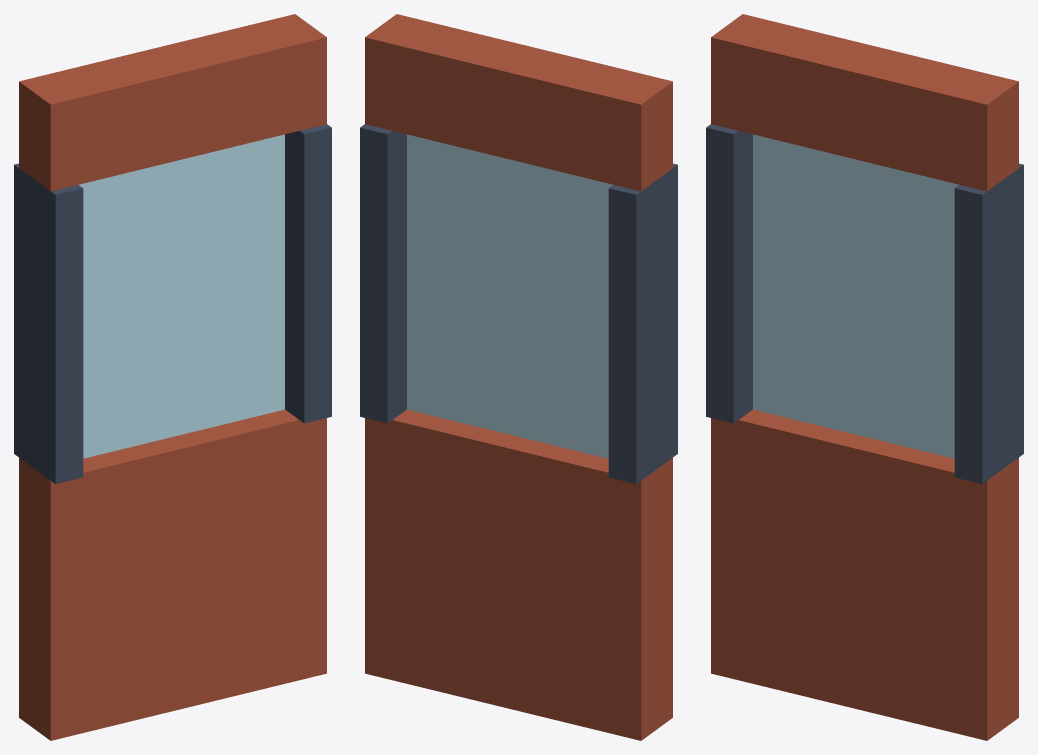
Rendered from raum_wand_fenster.glb.
The picture shows the model from 3 angles, left to right: view 1: azimuth 30°, elevation 25°; view 2: azimuth 150°, elevation 25°; view 3: azimuth 330°, elevation 25°; orthographic projection.
Parts seen in each view (by area): view 1: raum_wand_fenster; view 2: raum_wand_fenster; view 3: raum_wand_fenster.
Part boxes in pixels (x1,y1,x2,y2): raum_wand_fenster: (14, 14, 331, 740); raum_wand_fenster: (360, 14, 677, 740); raum_wand_fenster: (706, 14, 1023, 740).
Bounding box in the file's own units: 1 × 2.2 × 0.26.
